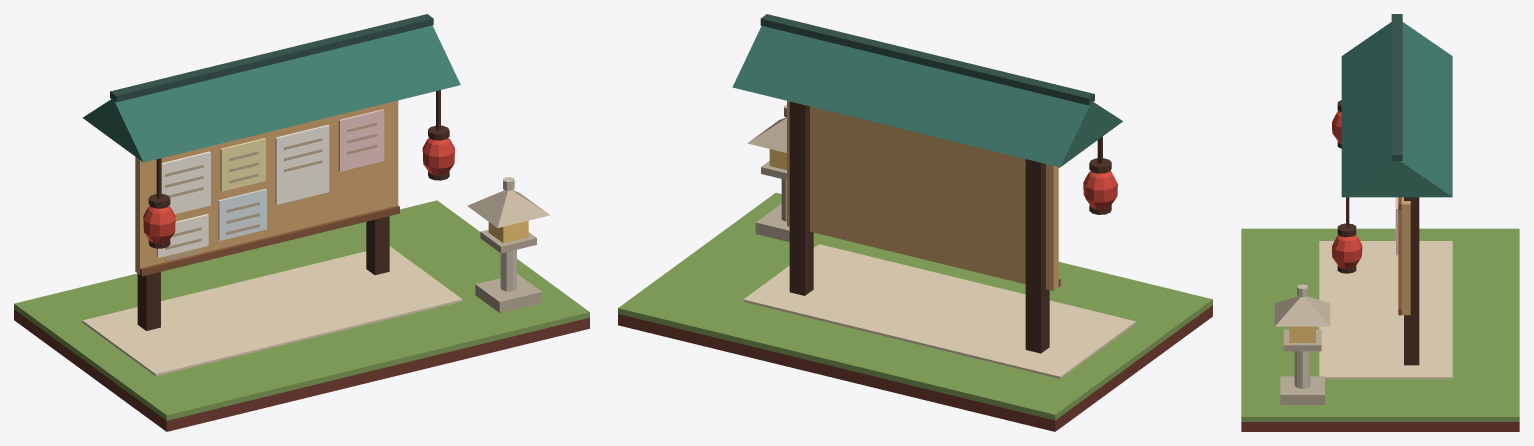
File: notice-board.glb
3 renders of one model, left to right at view 1: azimuth 30°, elevation 25°; view 2: azimuth 150°, elevation 25°; view 3: azimuth 270°, elevation 25°, orthographic. The views are drawn at different scales.
Parts seen in each view (by area): view 1: notice-board; view 2: notice-board; view 3: notice-board.
Boxes of the visible parts, left/top/right/bottom form: notice-board: left=14, top=14, right=589, bottom=431; notice-board: left=618, top=14, right=1212, bottom=431; notice-board: left=1241, top=14, right=1519, bottom=431.
Bounding box in the file's own units: 4 × 2.42 × 2.5.
